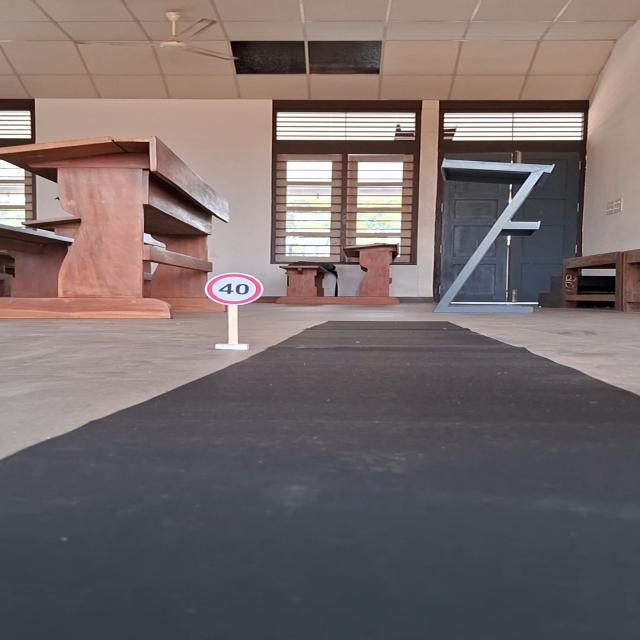Speed40: (203, 271, 266, 306)
